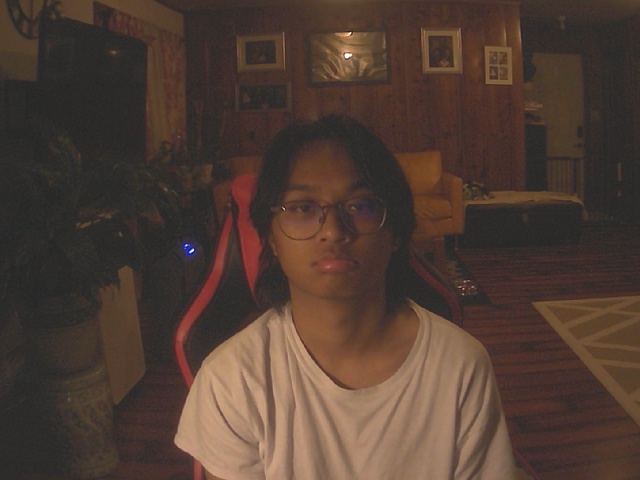sad: (246, 112, 416, 323)
